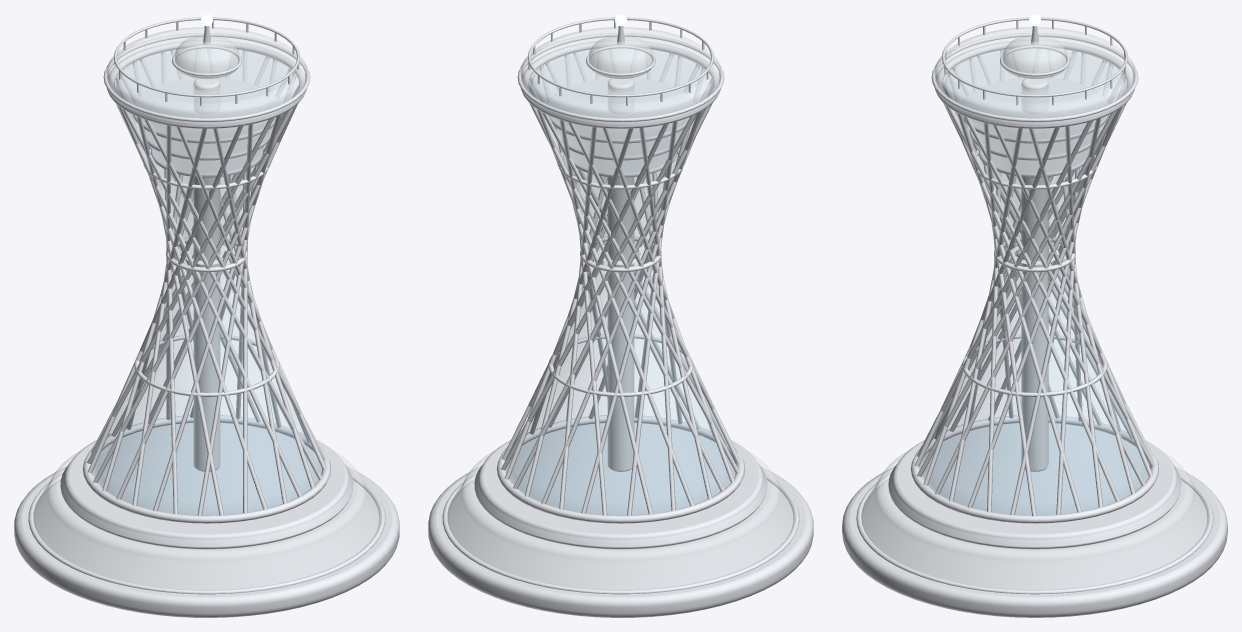
The picture shows the model from 3 angles, left to right: view 1: azimuth 30°, elevation 25°; view 2: azimuth 150°, elevation 25°; view 3: azimuth 270°, elevation 25°; orthographic projection.
Visible parts, largest first — view 1: KobePortTower_ChessPiece; view 2: KobePortTower_ChessPiece; view 3: KobePortTower_ChessPiece.
Part boxes in pixels (x1=…): KobePortTower_ChessPiece: x1=14, y1=14, x2=399, y2=617; KobePortTower_ChessPiece: x1=428, y1=14, x2=813, y2=617; KobePortTower_ChessPiece: x1=842, y1=14, x2=1227, y2=617.
Size of the model in its own units: 2 by 3 by 2.
